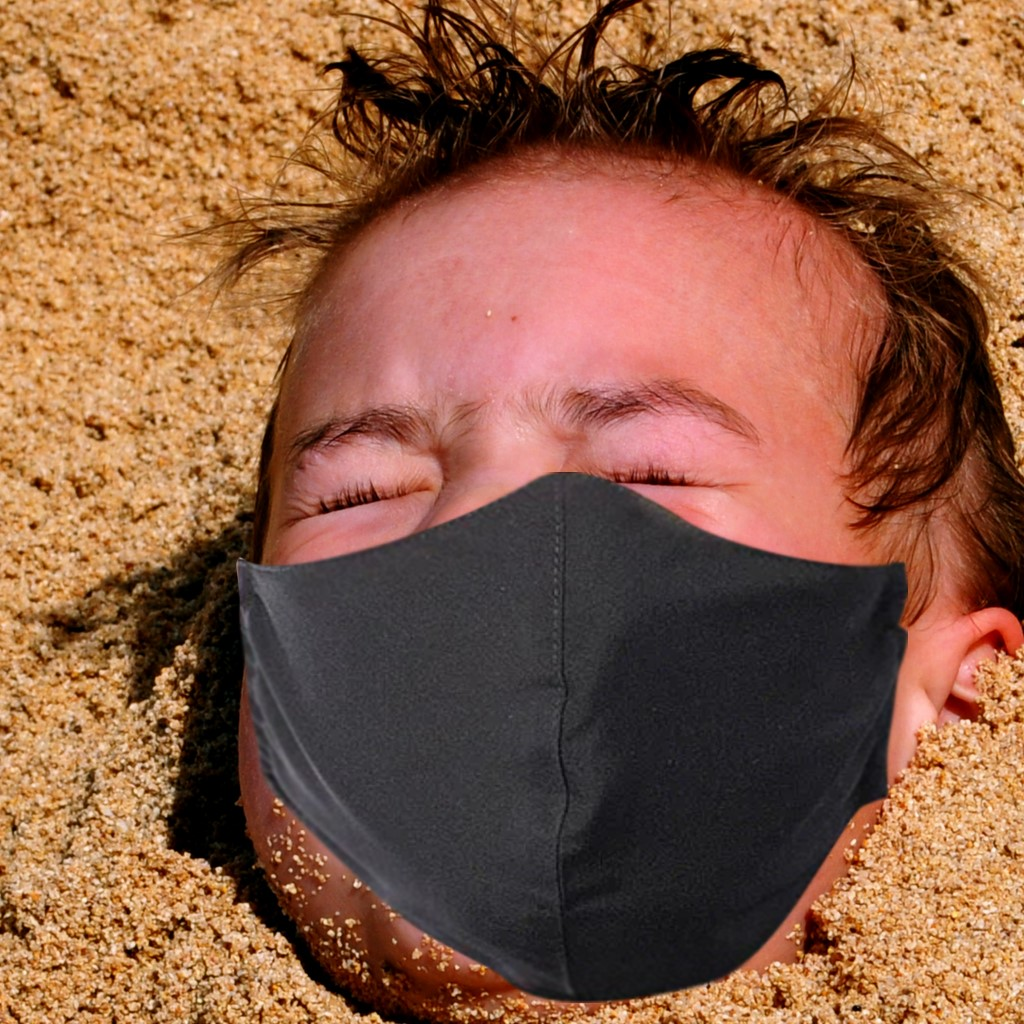con_mascara: (273, 188, 934, 980)
